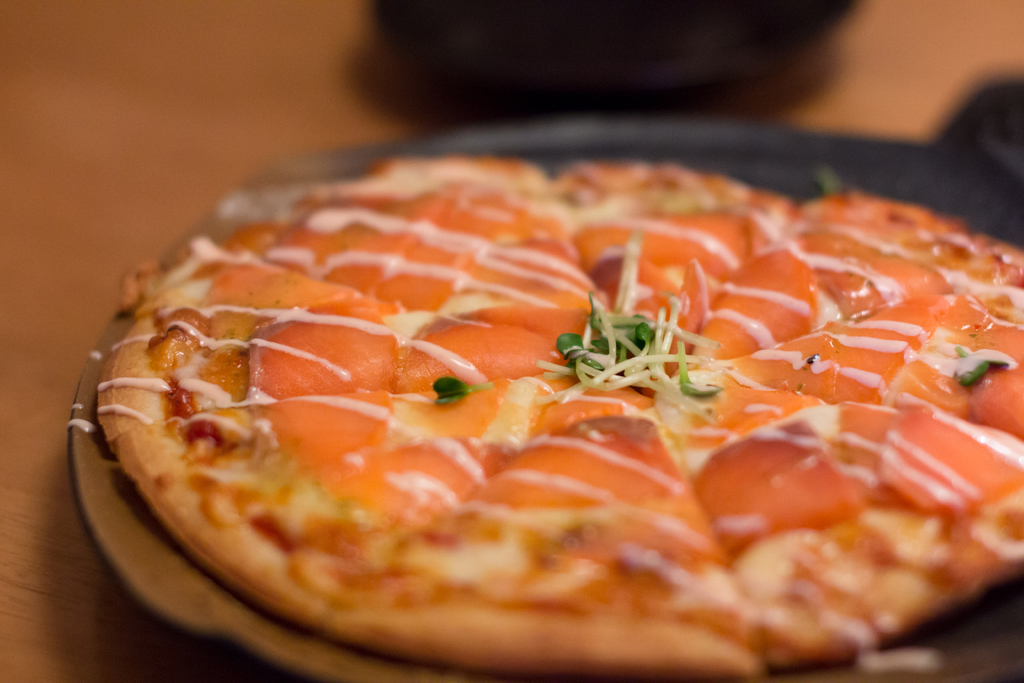Pizza: (91, 151, 1023, 670)
